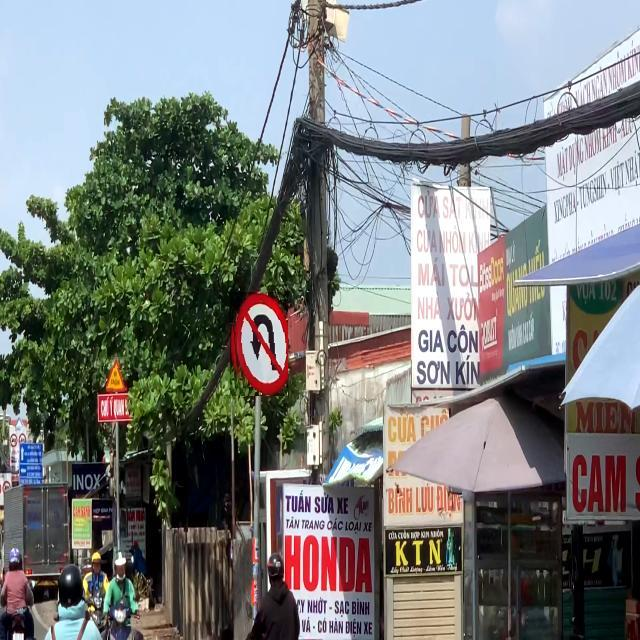P-124a: (230, 292, 288, 396)
W-245a: (106, 357, 127, 392)
